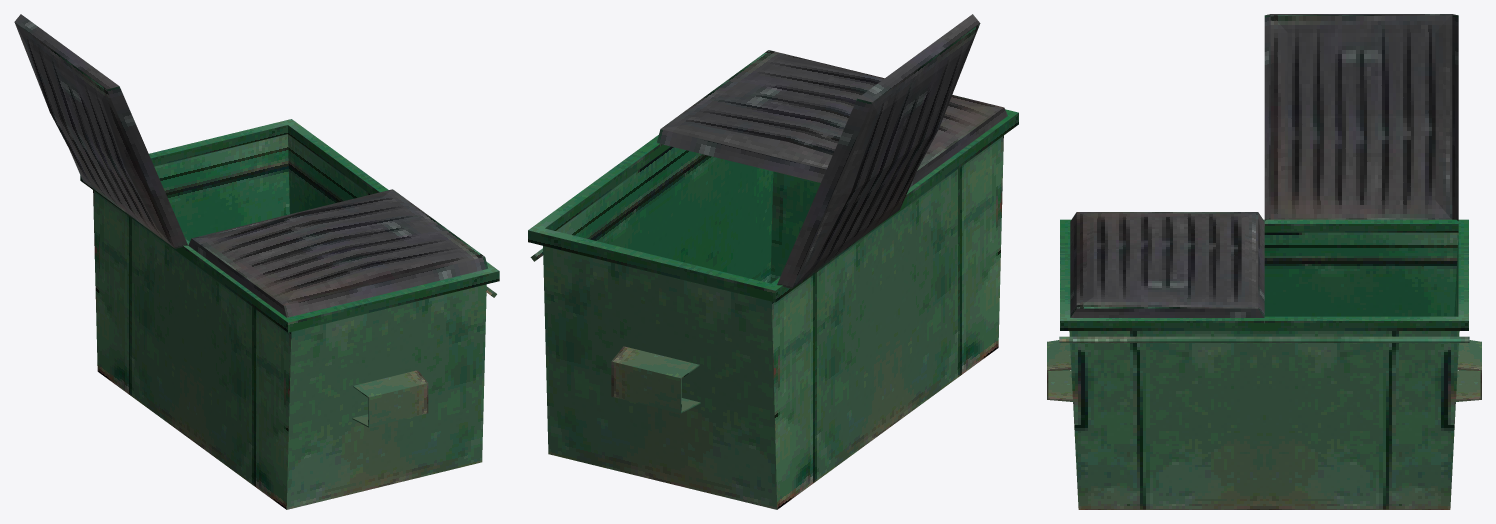
File: dumpster_empty_lid_open.glb
3 renders of one model, left to right at view 1: azimuth 30°, elevation 25°; view 2: azimuth 150°, elevation 25°; view 3: azimuth 270°, elevation 25°, orthographic. The views are drawn at different scales.
Visible parts, largest first — view 1: dumpster_empty_lid_open; view 2: dumpster_empty_lid_open; view 3: dumpster_empty_lid_open.
Part boxes in pixels (x1,y1,x2,y2): dumpster_empty_lid_open: (14,14,499,509); dumpster_empty_lid_open: (528,14,1018,509); dumpster_empty_lid_open: (1047,14,1481,509).
Bounding box in the file's own units: 2.74 × 3.41 × 3.67.
1 material, 1 textured.
